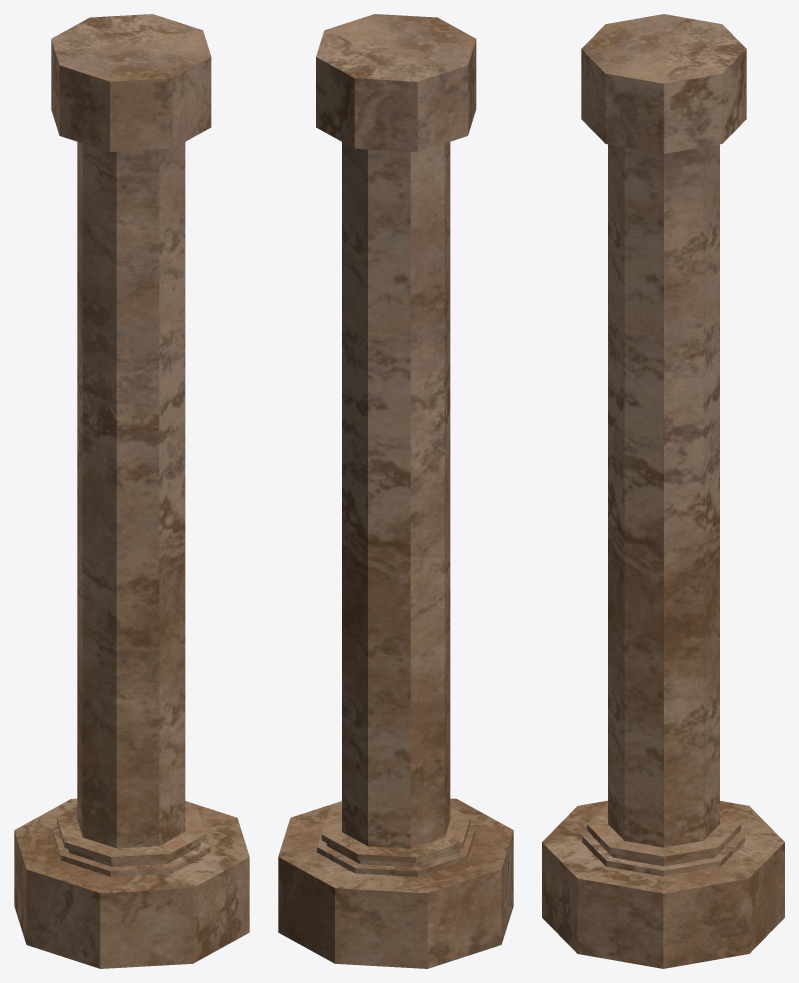
File: Pillar 1.fbx
The picture shows the model from 3 angles, left to right: view 1: azimuth 30°, elevation 25°; view 2: azimuth 150°, elevation 25°; view 3: azimuth 270°, elevation 25°; orthographic projection.
Visible parts, largest first — view 1: Cylinder.001; view 2: Cylinder.001; view 3: Cylinder.001.
Part boxes in pixels (box(x1,y1,x2,y2)): Cylinder.001: box(14, 14, 249, 968); Cylinder.001: box(278, 14, 513, 968); Cylinder.001: box(542, 14, 784, 968).
Bounding box in the file's own units: 282 × 1112 × 282.
1 material, 1 textured.
